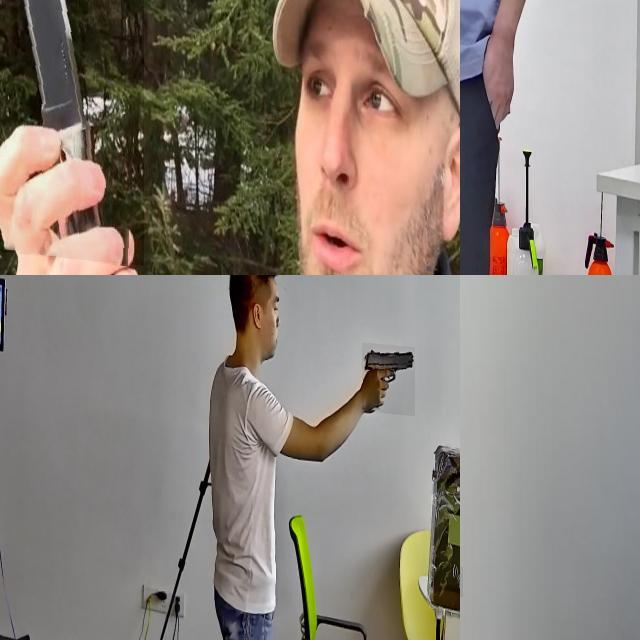-: (0, 0, 144, 260), (460, 556, 495, 591)
gun-knife-thesis - v11 Yolov5 augmented: (362, 334, 415, 406), (460, 0, 496, 66)
